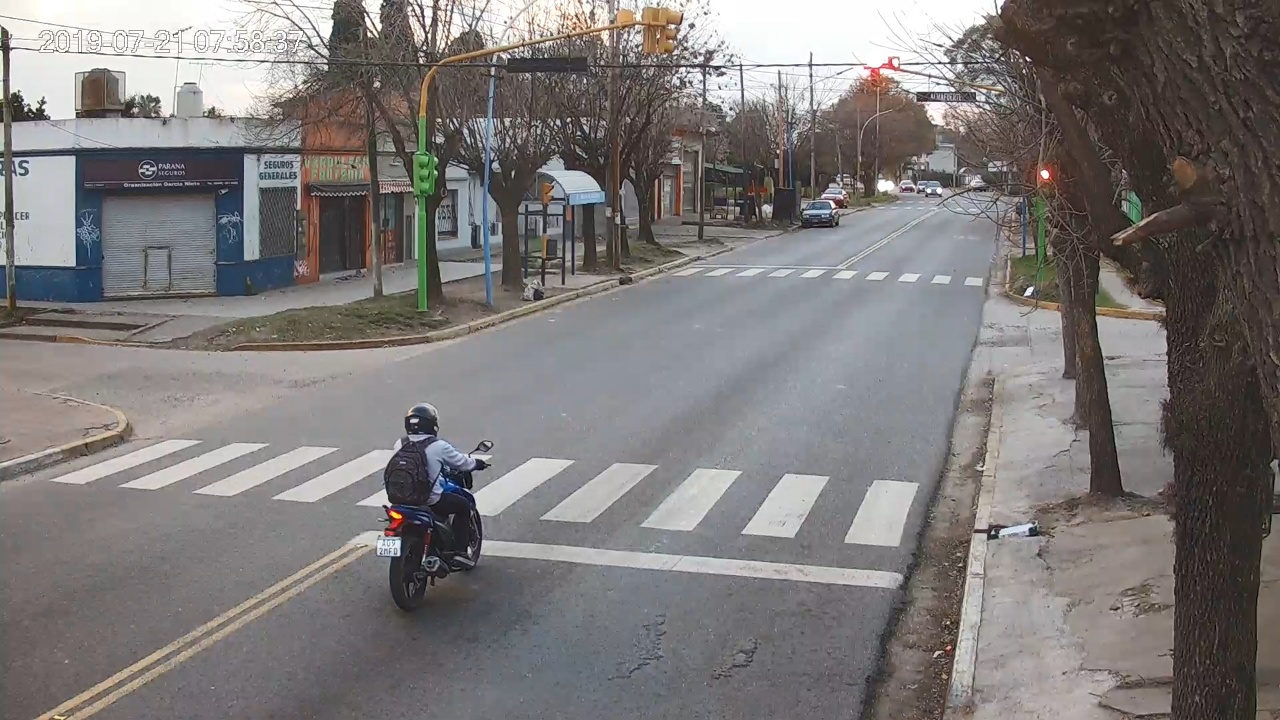motorcycle: (377, 439, 493, 608)
traffic light: (870, 52, 882, 87)
